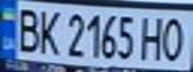1: (81, 10, 103, 58)
2: (63, 9, 87, 58)
5: (115, 11, 139, 61)
6: (100, 11, 121, 60)
B: (12, 4, 42, 54)
H: (139, 12, 166, 62)
K: (36, 7, 63, 56)
O: (157, 14, 190, 62)
